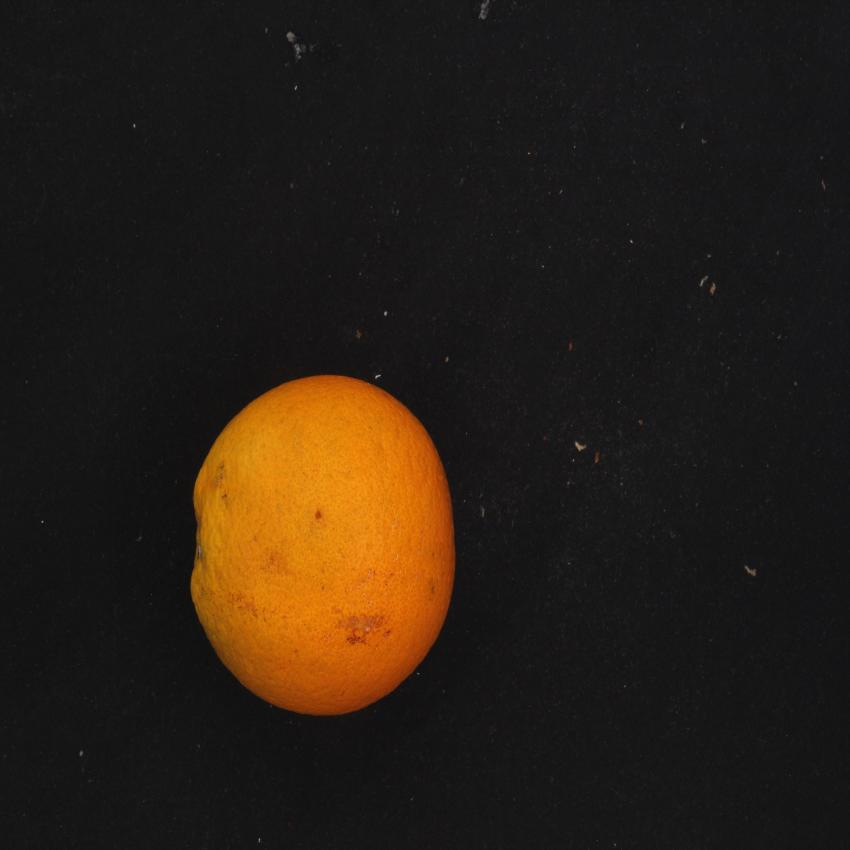Buen estado: (171, 356, 482, 730)
